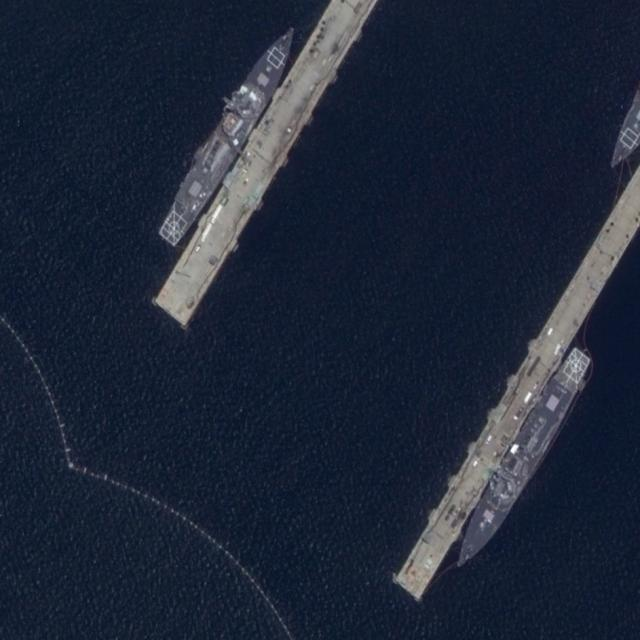Destroyer: (151, 16, 307, 251), (447, 341, 597, 581)
